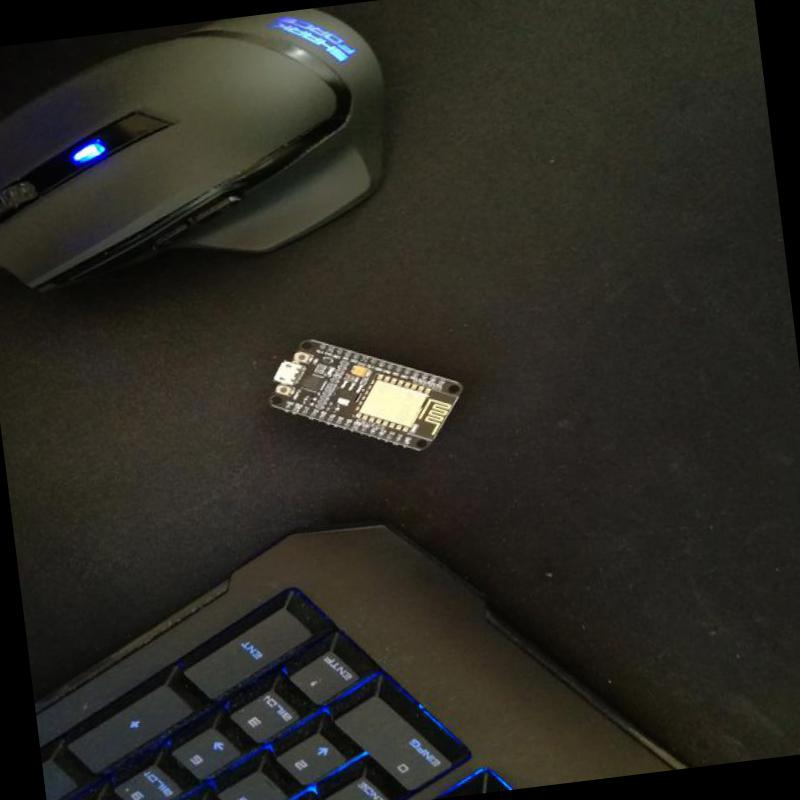ESP8266: (256, 318, 476, 473)
